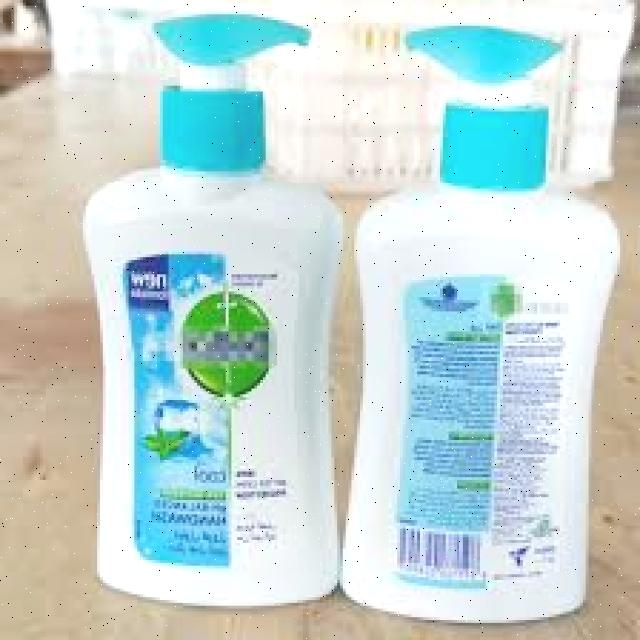liquid soap: (336, 14, 624, 628), (87, 9, 336, 609)
